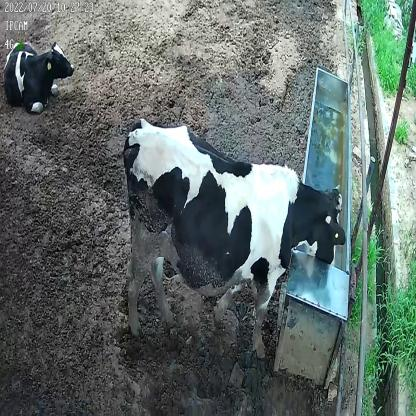cow: (123, 116, 347, 361), (3, 33, 76, 116)
